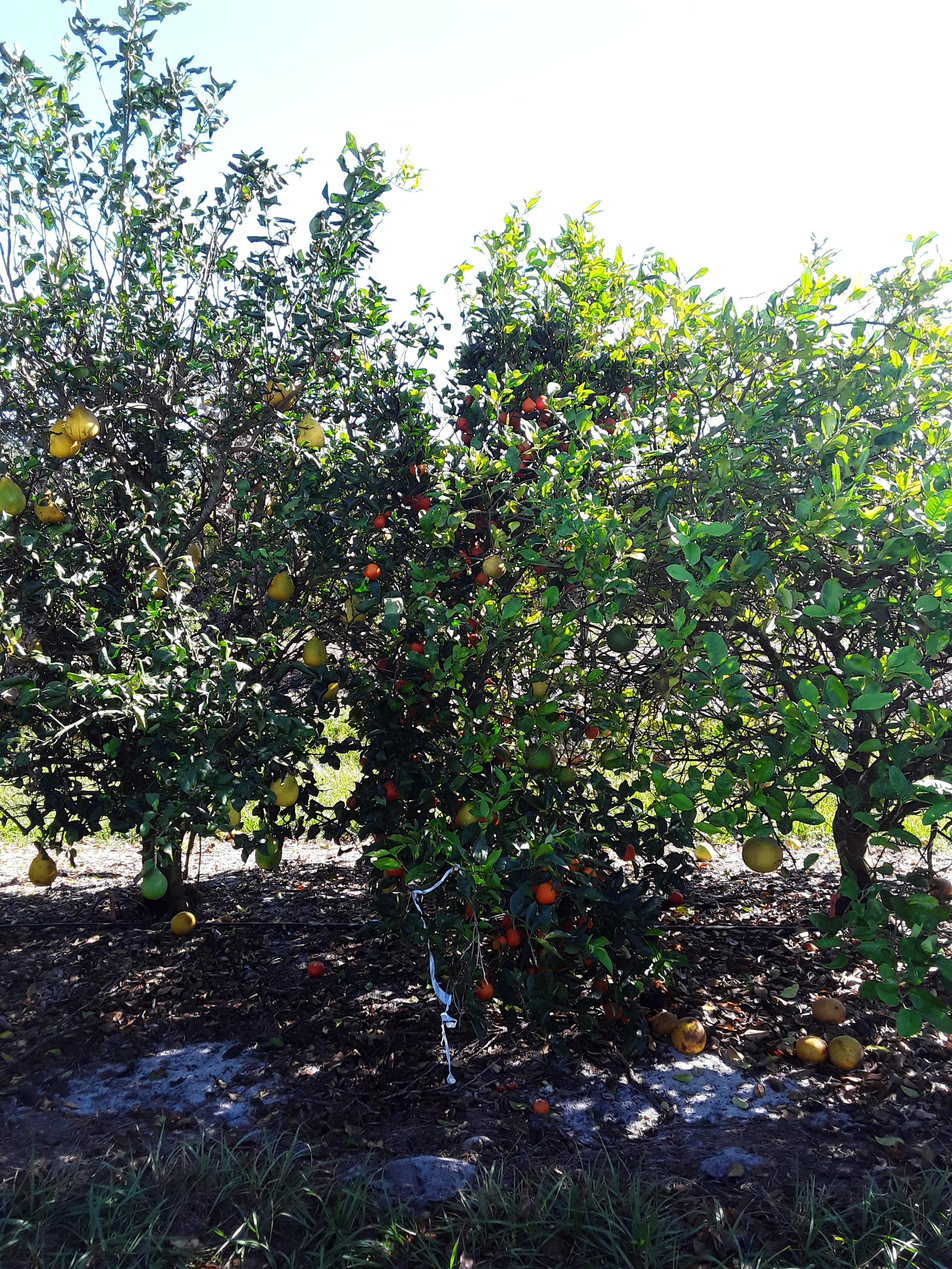fruit_on_ground: (739, 831, 784, 874), (45, 418, 82, 460), (209, 792, 249, 830), (259, 372, 299, 410), (65, 403, 103, 443), (24, 850, 61, 889), (292, 414, 326, 452), (138, 563, 173, 599), (266, 771, 301, 807), (0, 475, 29, 518), (32, 492, 68, 526), (251, 834, 284, 871), (137, 869, 170, 903), (605, 621, 639, 654), (523, 742, 557, 774), (167, 906, 199, 938), (454, 799, 486, 830), (267, 571, 298, 603), (301, 636, 330, 668), (341, 596, 371, 626), (530, 879, 559, 907), (471, 976, 497, 1003), (527, 674, 551, 700), (598, 746, 624, 770), (408, 489, 433, 513), (554, 764, 579, 788), (483, 554, 508, 578), (183, 540, 206, 566), (314, 678, 340, 701), (379, 778, 402, 803), (578, 864, 601, 888), (649, 749, 674, 771), (259, 493, 281, 516), (560, 854, 584, 875), (601, 414, 624, 435), (507, 460, 531, 480), (405, 458, 429, 478), (505, 409, 526, 431), (615, 841, 637, 862), (369, 511, 390, 533), (361, 560, 383, 581), (407, 638, 430, 658), (423, 792, 445, 811), (662, 388, 683, 407), (392, 675, 413, 694), (504, 927, 523, 948), (463, 539, 485, 557), (495, 911, 516, 929), (490, 932, 508, 953), (373, 655, 392, 674), (472, 570, 492, 588), (493, 746, 511, 765), (535, 392, 553, 411), (520, 395, 538, 414), (453, 414, 472, 432), (513, 436, 533, 453), (532, 555, 548, 576), (343, 794, 361, 812), (583, 722, 601, 740), (618, 381, 637, 398), (556, 437, 574, 454), (420, 666, 439, 682), (494, 408, 511, 425), (458, 429, 476, 444), (461, 393, 477, 409), (407, 751, 423, 766), (466, 614, 481, 629), (538, 411, 554, 425), (534, 420, 549, 434), (562, 581, 577, 594), (468, 632, 481, 646)
fruit_on_tree: (668, 1018, 710, 1056), (828, 1031, 866, 1071), (809, 993, 849, 1028), (793, 1031, 830, 1064), (646, 1009, 677, 1038), (168, 908, 199, 937), (926, 874, 952, 903), (600, 997, 626, 1023), (303, 957, 329, 981), (589, 975, 614, 998), (762, 1074, 788, 1096), (693, 841, 716, 864), (530, 1095, 552, 1118), (664, 888, 686, 908), (873, 858, 896, 877), (917, 834, 932, 849)
